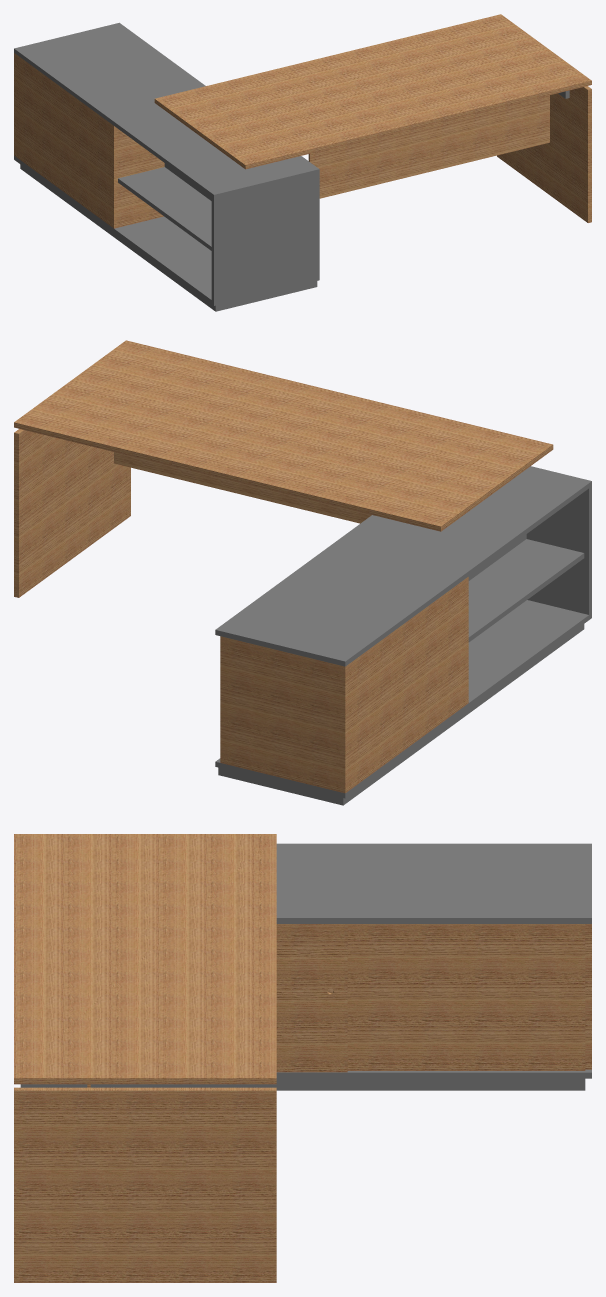
Rendered from desk.glb.
The picture shows the model from 3 angles, top to bottom: view 1: azimuth 30°, elevation 25°; view 2: azimuth 150°, elevation 25°; view 3: azimuth 270°, elevation 25°; orthographic projection. The views are drawn at different scales.
Parts seen in each view (by area): view 1: Material2 (×5); view 2: Material2 (×5); view 3: Material2 (×6).
Part boxes in pixels (x1=…): Material2 (×5): x1=14, y1=14, x2=591, y2=311; Material2 (×5): x1=14, y1=340, x2=591, y2=805; Material2 (×6): x1=14, y1=834, x2=591, y2=1282.
Bounding box in the file's own units: 94.49 × 33.8 × 86.61.
2 materials, 1 textured.
